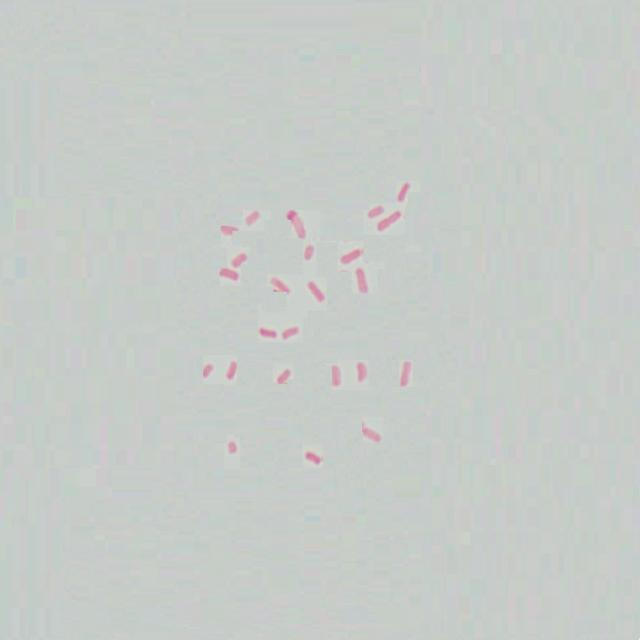E-coli: (372, 207, 406, 234), (359, 419, 382, 446), (286, 208, 305, 239), (305, 274, 324, 303), (340, 246, 363, 268), (353, 360, 372, 386), (400, 358, 416, 388), (355, 267, 370, 296), (258, 320, 277, 341), (329, 363, 344, 389), (226, 357, 243, 379), (216, 265, 238, 282), (398, 179, 411, 207), (240, 206, 259, 225), (306, 449, 324, 467), (274, 366, 292, 383), (272, 273, 287, 292), (283, 324, 300, 339), (362, 206, 387, 216), (230, 251, 245, 267), (218, 223, 236, 236), (304, 241, 315, 260), (202, 361, 213, 377), (227, 438, 237, 455)
